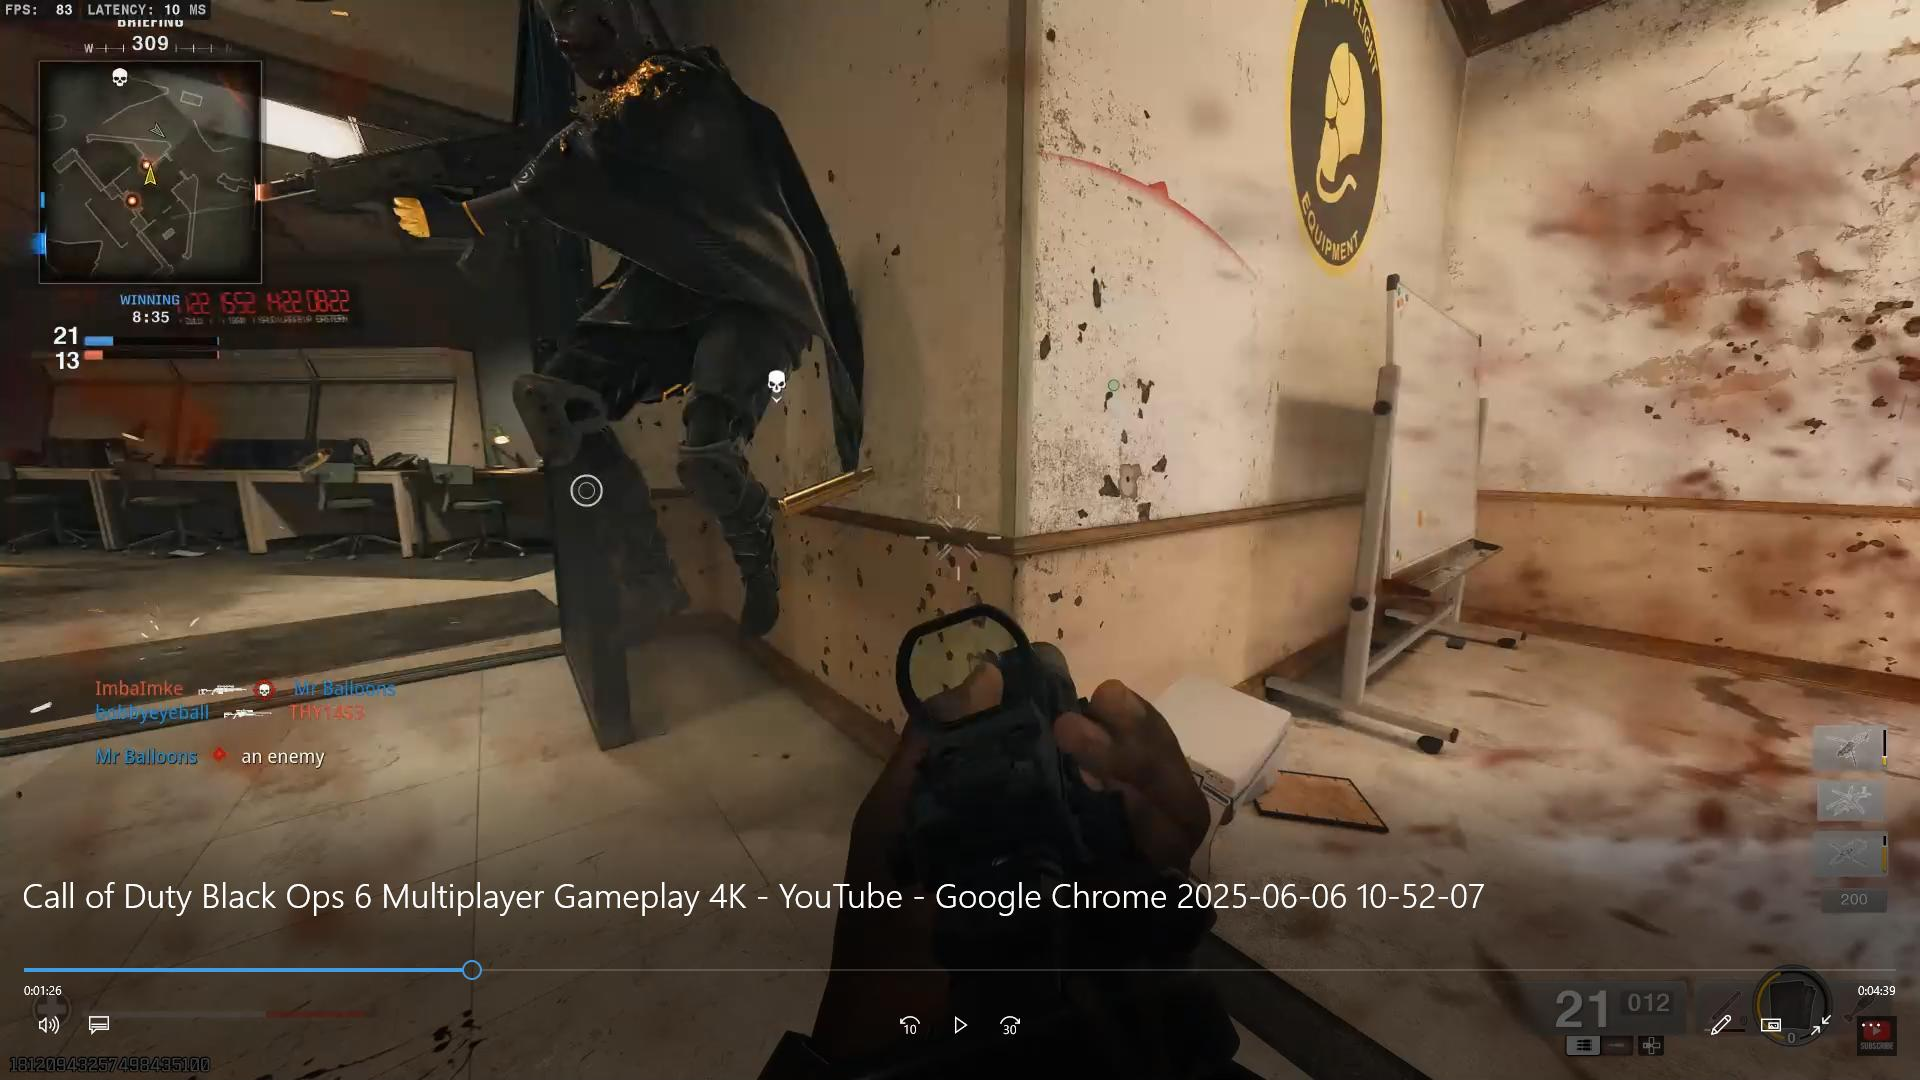Enemy: (411, 0, 895, 613)
